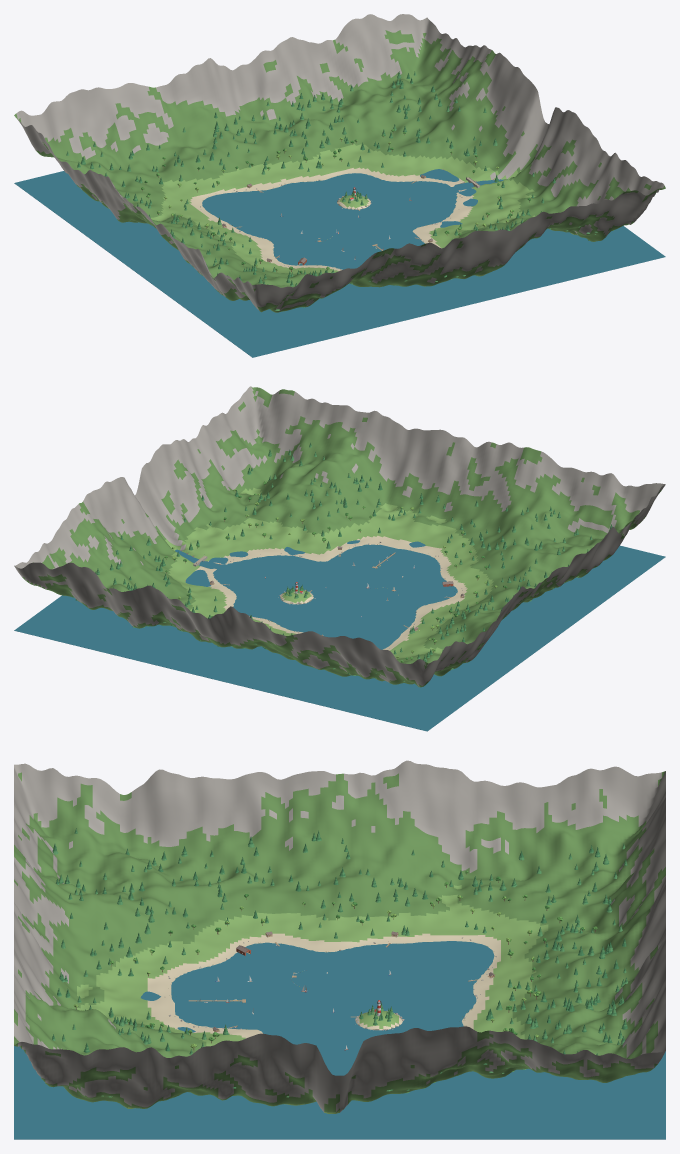
File: lake.glb
3 renders of one model, top to bottom at view 1: azimuth 30°, elevation 25°; view 2: azimuth 150°, elevation 25°; view 3: azimuth 270°, elevation 25°, orthographic. The views are drawn at different scales.
Visible parts, largest first — view 1: map; view 2: map; view 3: map.
Part boxes in pixels (bbox=[...]): map: bbox=[14, 14, 665, 357]; map: bbox=[14, 386, 665, 731]; map: bbox=[14, 760, 665, 1139].
Size of the model in its own units: 1000 by 201 by 1000.
